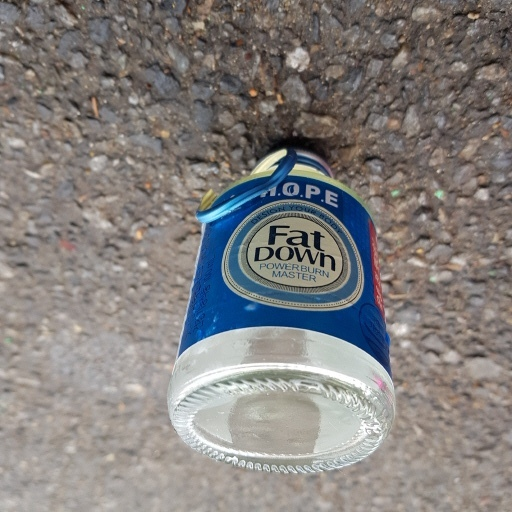Glass_4: (161, 143, 404, 473)
